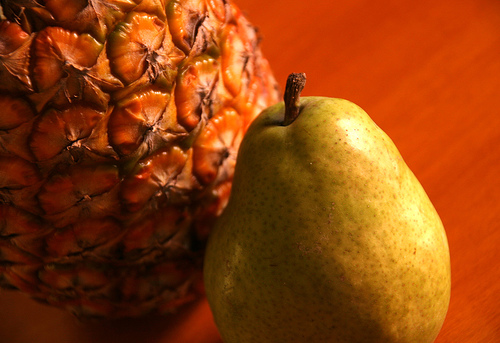pineapple: (0, 0, 279, 329)
